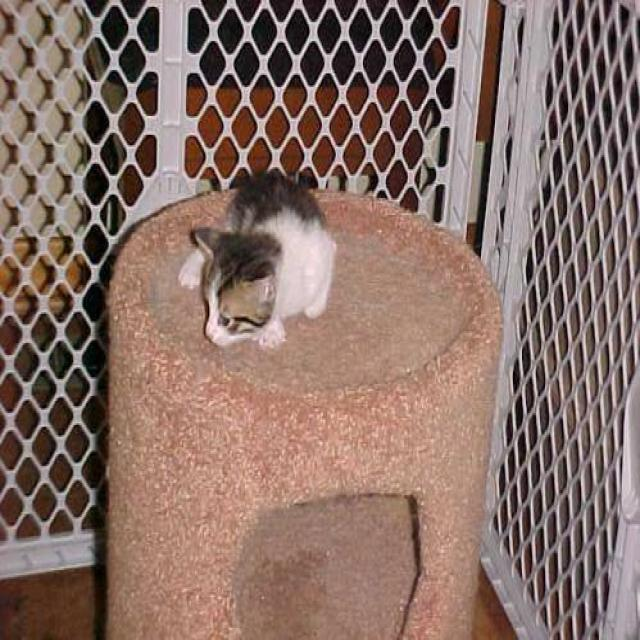cat: (178, 165, 338, 350)
